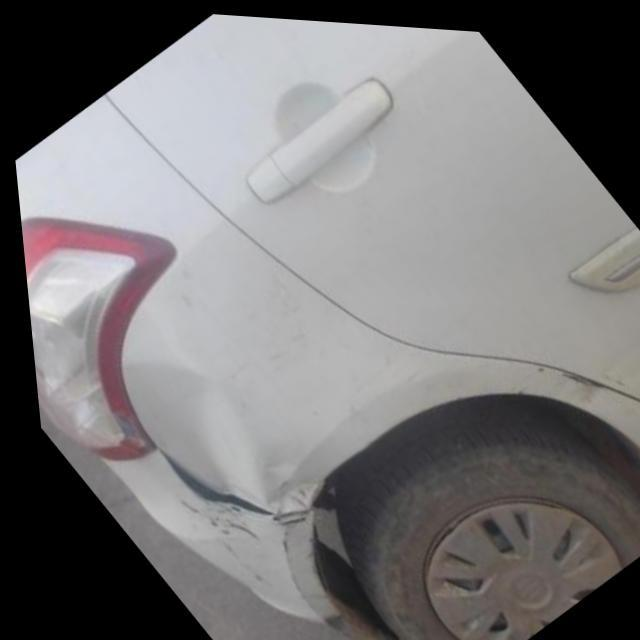dent: (119, 359, 270, 515), (512, 347, 616, 405)
dislocated part: (144, 445, 271, 515)
scratch: (252, 503, 334, 613), (166, 491, 255, 542), (209, 543, 264, 588)
